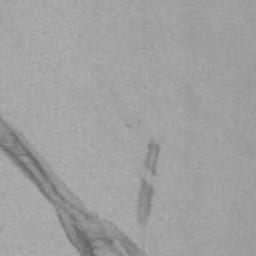Water spot: (0, 114, 148, 256), (136, 142, 165, 229)
